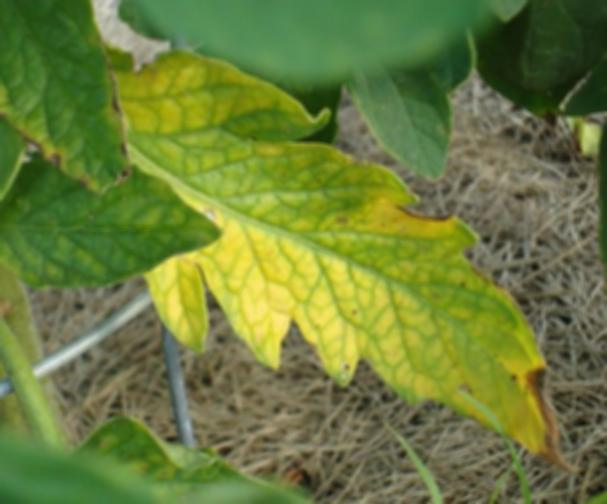Tomato mold leaf: (104, 46, 573, 462), (0, 160, 220, 295), (0, 0, 140, 199)
